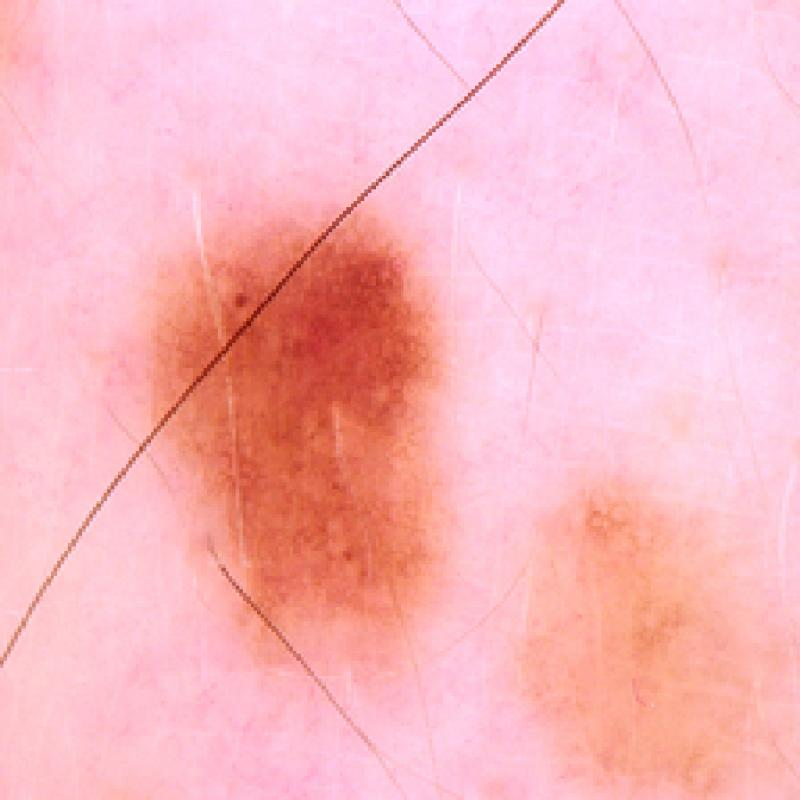benign: (127, 187, 481, 706), (500, 439, 796, 800)
